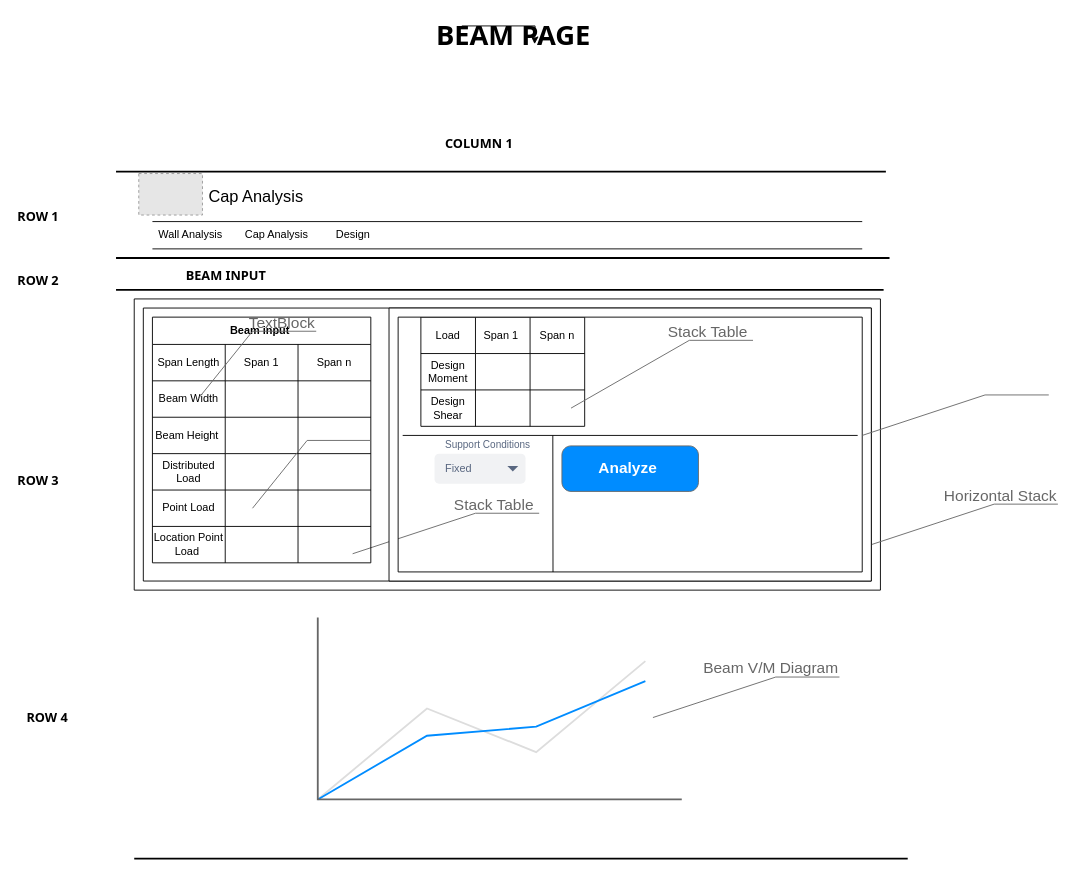
Image size: 1074x879. Some labels were removed from this diagram. Grey dashed boxes stand in for pictures. The shapes that lost their labels are listed below. From the top down, each one's centre as x and y in pixels, then its label:
At pixel 955 403: "Vertical Stack".
At pixel 311 462: "TextBox".
